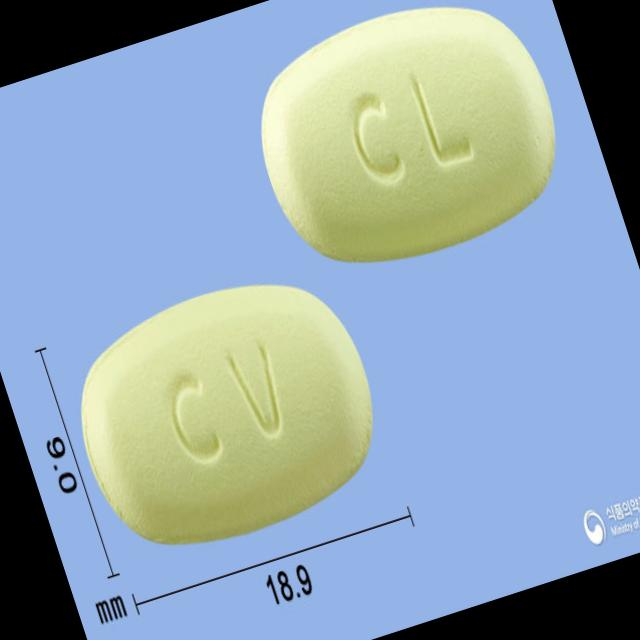Cllaricin: (49, 247, 406, 574), (229, 0, 583, 291)
